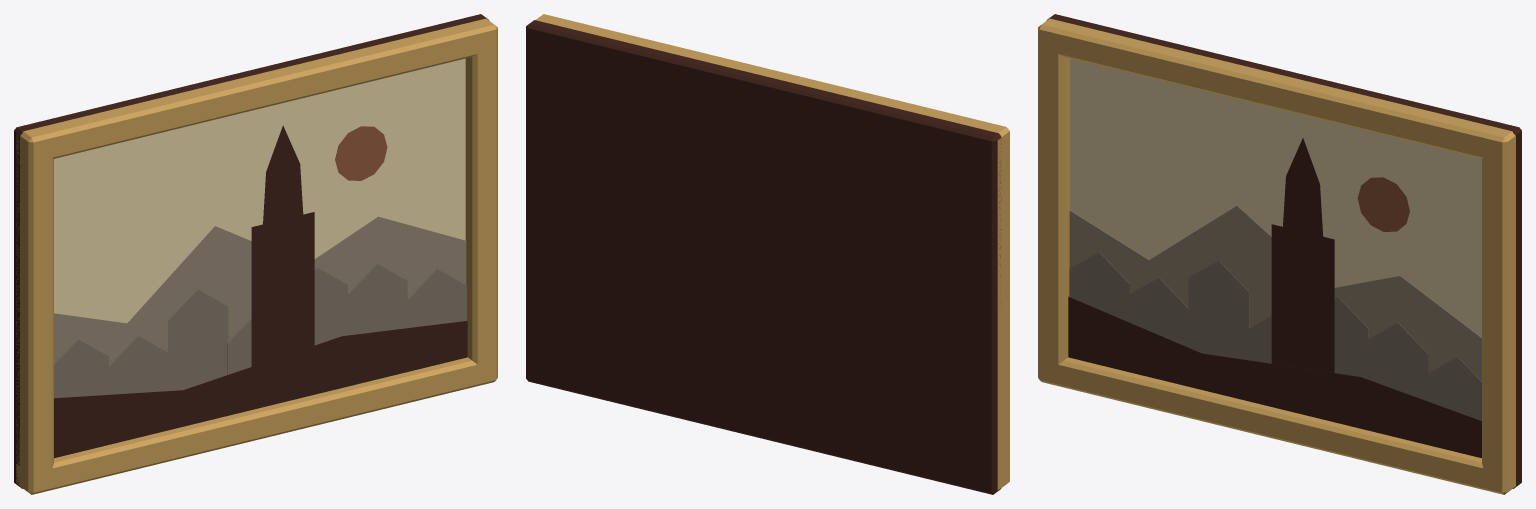
Rendered from painting_02.glb.
3 views of the same model, side by side, from view 1: azimuth 30°, elevation 25°; view 2: azimuth 150°, elevation 25°; view 3: azimuth 330°, elevation 25° (orthographic).
Visible parts, largest first — view 1: Sky, GoldFrame, Foreground, DistantHills, Tower, Back, House_2, House_5, House_1, House_6, House_0, House_4 (+2 smaller); view 2: Back, GoldFrame; view 3: Sky, GoldFrame, Foreground, DistantHills, Tower, Back, House_2, House_5, House_0, House_1, House_6, House_4 (+2 smaller).
Boxes of the visible parts, x1,y1,x2,y2 form: Sky: [54, 58, 465, 323]; GoldFrame: [16, 18, 497, 494]; Foreground: [54, 321, 467, 458]; DistantHills: [54, 216, 466, 365]; Tower: [251, 125, 314, 366]; Back: [14, 14, 489, 488]; House_2: [168, 289, 228, 390]; House_5: [347, 264, 407, 335]; House_1: [108, 336, 167, 394]; House_6: [407, 269, 466, 327]; House_0: [54, 339, 108, 398]; House_4: [314, 267, 347, 345]; Back: [526, 20, 1001, 494]; GoldFrame: [535, 14, 1009, 490]; Sky: [1070, 58, 1481, 337]; GoldFrame: [1038, 18, 1515, 494]; Foreground: [1068, 296, 1481, 458]; DistantHills: [1069, 206, 1481, 381]; Tower: [1271, 138, 1334, 372]; Back: [1046, 14, 1521, 488]; House_2: [1188, 260, 1249, 359]; House_5: [1368, 322, 1428, 400]; House_0: [1069, 252, 1129, 321]; House_1: [1129, 278, 1188, 347]; House_6: [1427, 357, 1481, 420]; House_4: [1334, 297, 1368, 379].
Bounding box in the file's own units: 1.1 × 0.8 × 0.0718.
